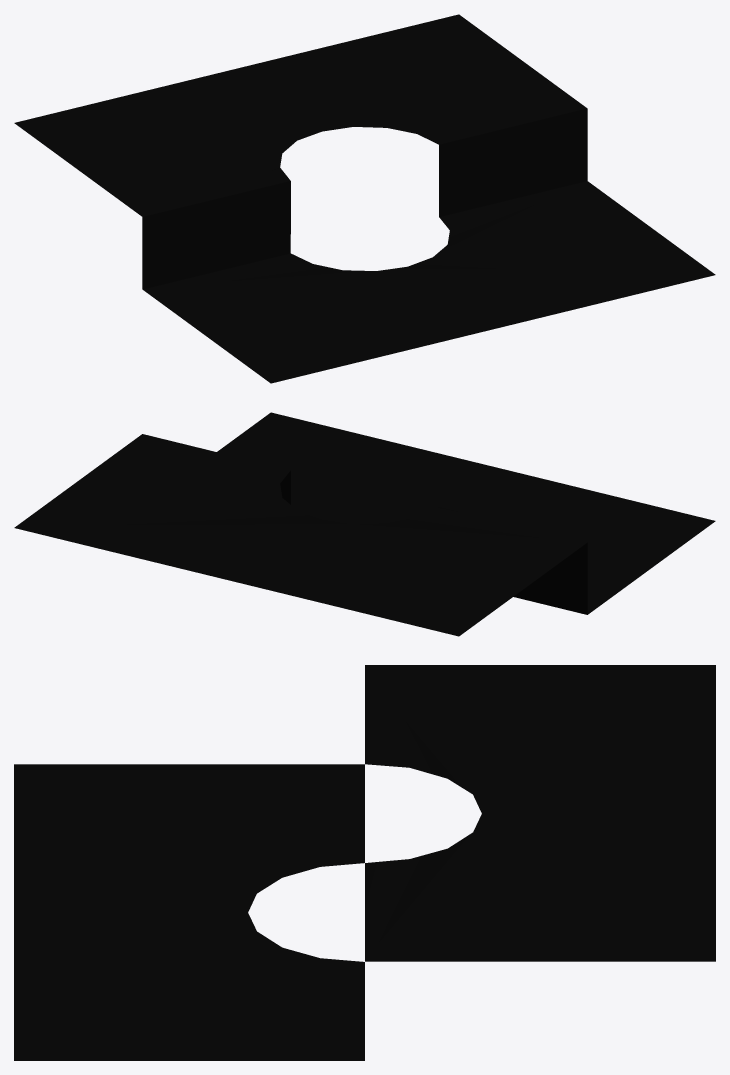
The model's file is Dest_PoisonFactory_Field_Wall.FBX.
3 views of the same model, one above another, from view 1: azimuth 30°, elevation 25°; view 2: azimuth 150°, elevation 25°; view 3: azimuth 270°, elevation 25° (orthographic). The views are drawn at different scales.
Visible parts, largest first — view 1: Object008; view 2: Object008; view 3: Object008.
Boxes of the visible parts, <box> form: Object008: <box>14,14,715,383</box>; Object008: <box>14,412,715,636</box>; Object008: <box>14,665,715,1060</box>.
Size of the model in its own units: 450 by 70.17 by 450.
